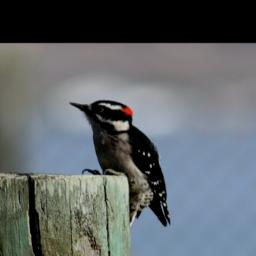Woodpecker: (68, 99, 173, 226)
